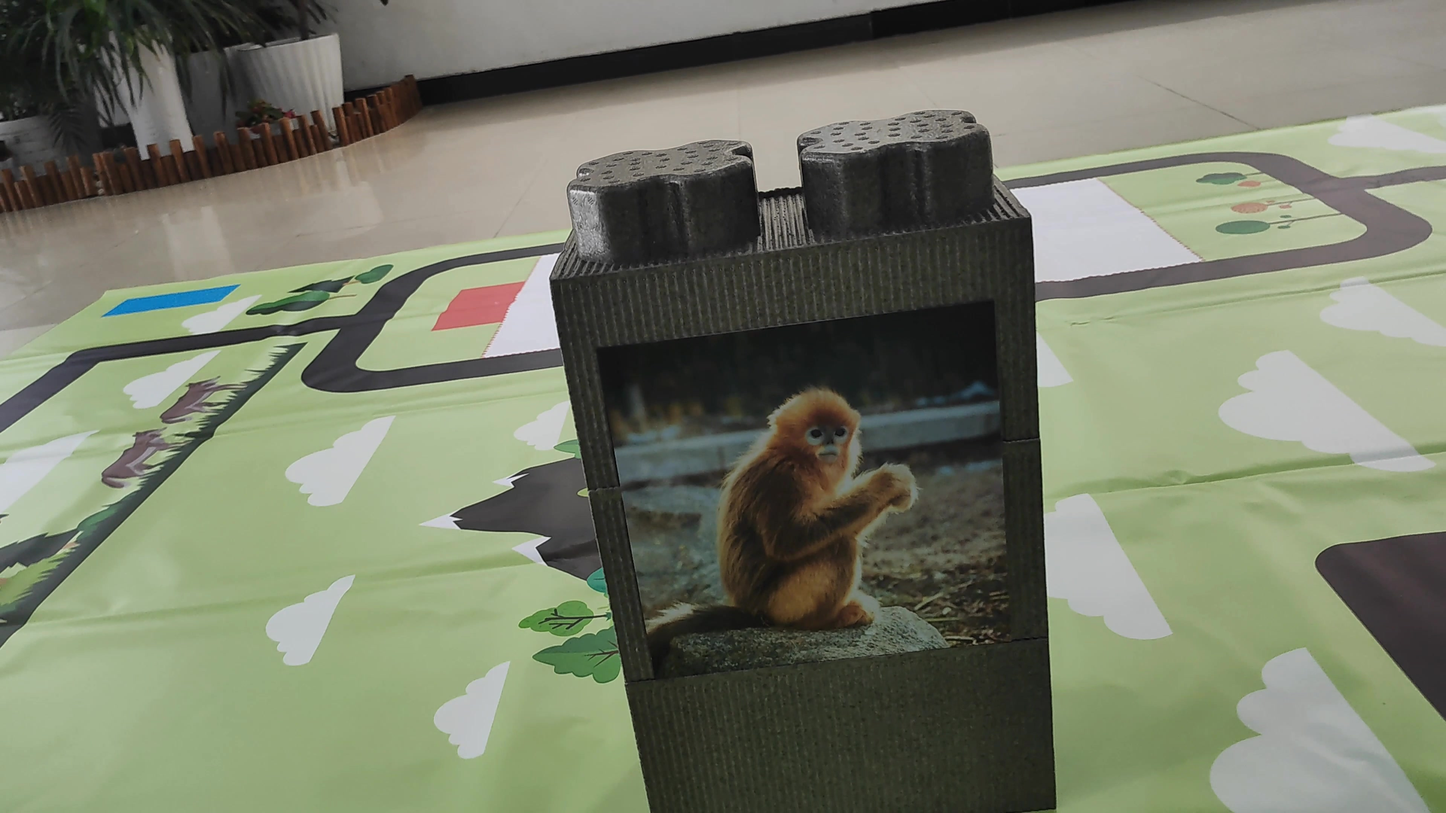monkey: (626, 361, 936, 666)
